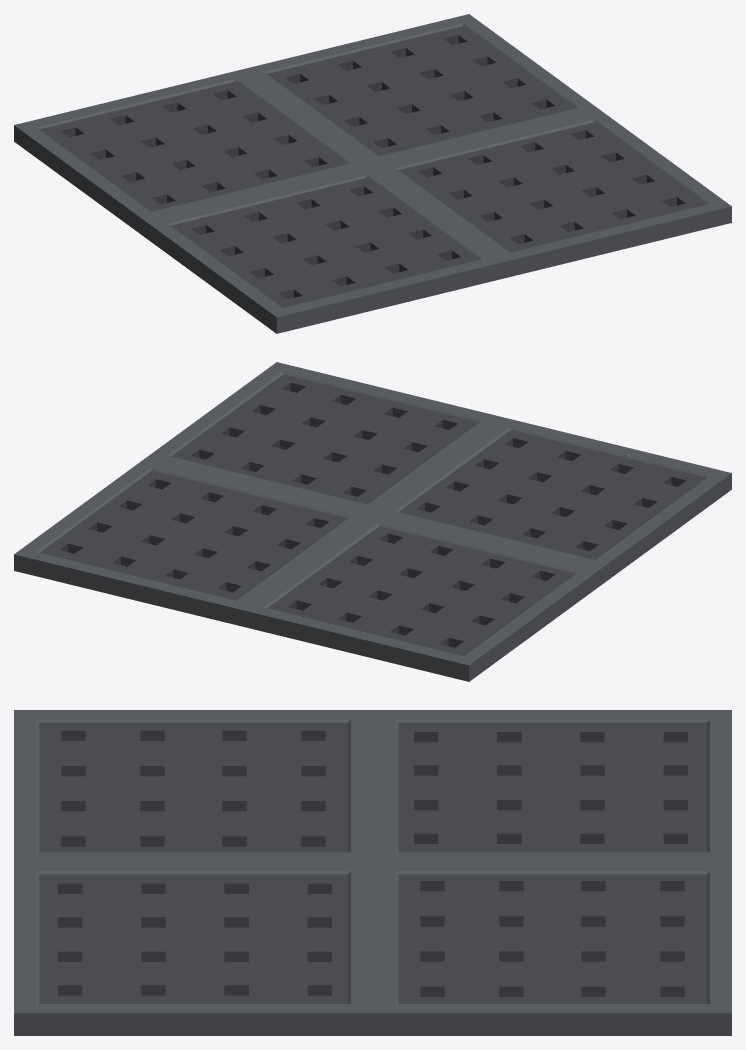
The model's file is SM_Obstacle_01_B_Base.fbx.
The picture shows the model from 3 angles, top to bottom: view 1: azimuth 30°, elevation 25°; view 2: azimuth 150°, elevation 25°; view 3: azimuth 270°, elevation 25°; orthographic projection. The views are drawn at different scales.
Visible parts, largest first — view 1: pCube566; view 2: pCube566; view 3: pCube566.
Boxes of the visible parts, left/top/right/bottom form: pCube566: left=14, top=14, right=731, bottom=333; pCube566: left=14, top=362, right=731, bottom=681; pCube566: left=14, top=710, right=731, bottom=1035.
Size of the model in its own units: 200 by 6.91 by 200.
Materials: 1 (1 with a texture image).
